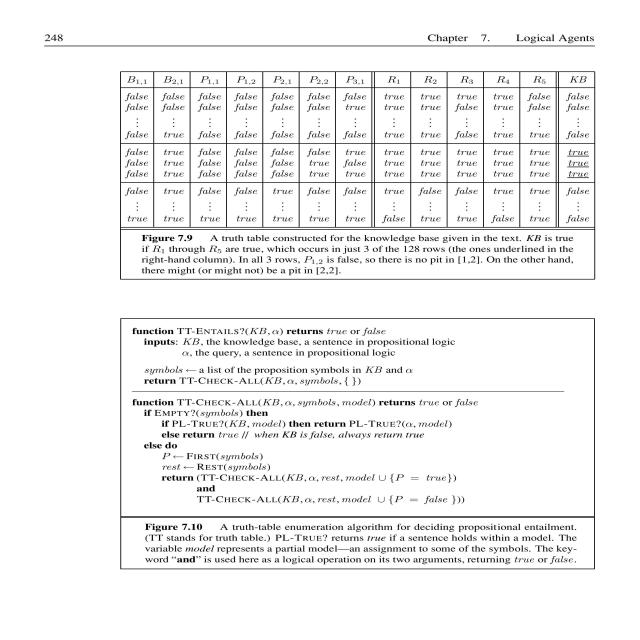diagram: (106, 63, 618, 593)
